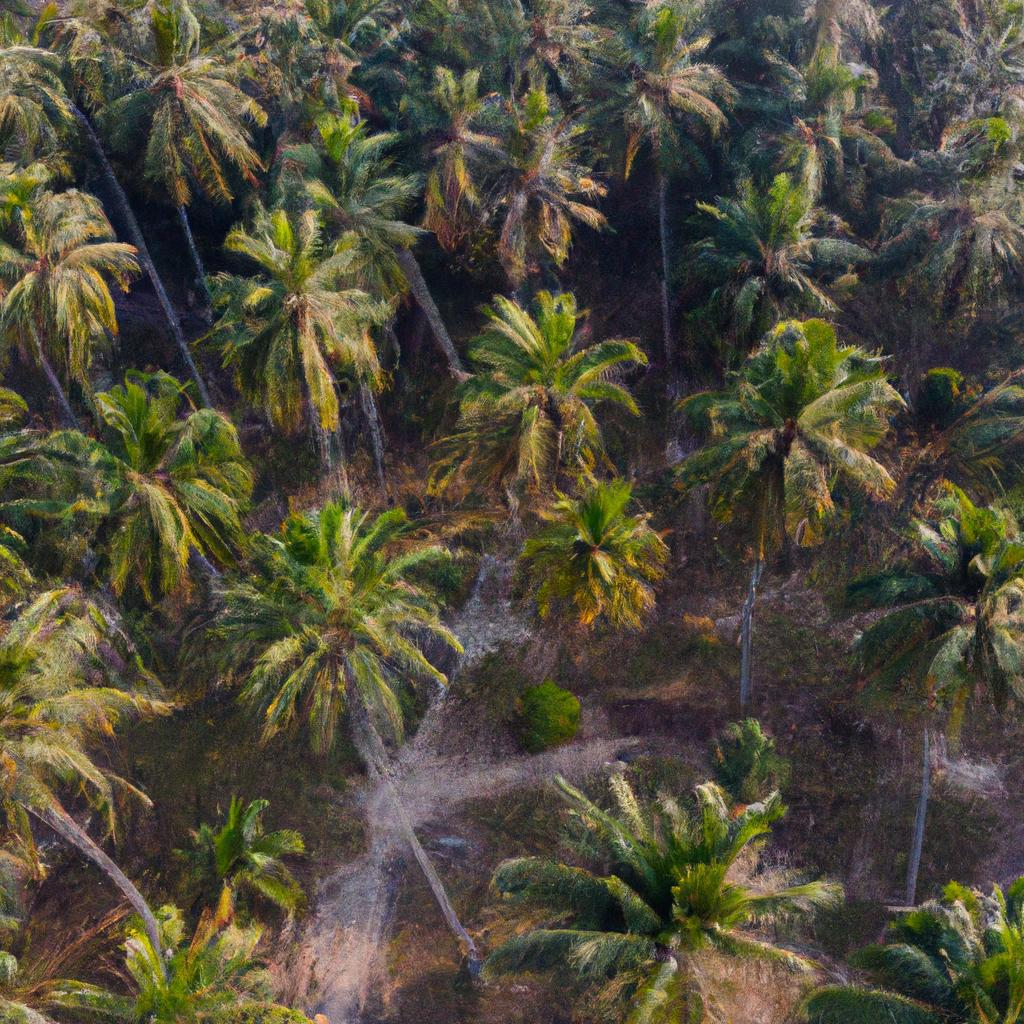coconut_tree: (472, 742, 805, 1020), (192, 477, 496, 762), (196, 204, 423, 442), (24, 359, 259, 588), (684, 316, 919, 543), (445, 277, 654, 475), (426, 86, 608, 274), (681, 177, 901, 315), (519, 465, 669, 648), (0, 189, 148, 347)
